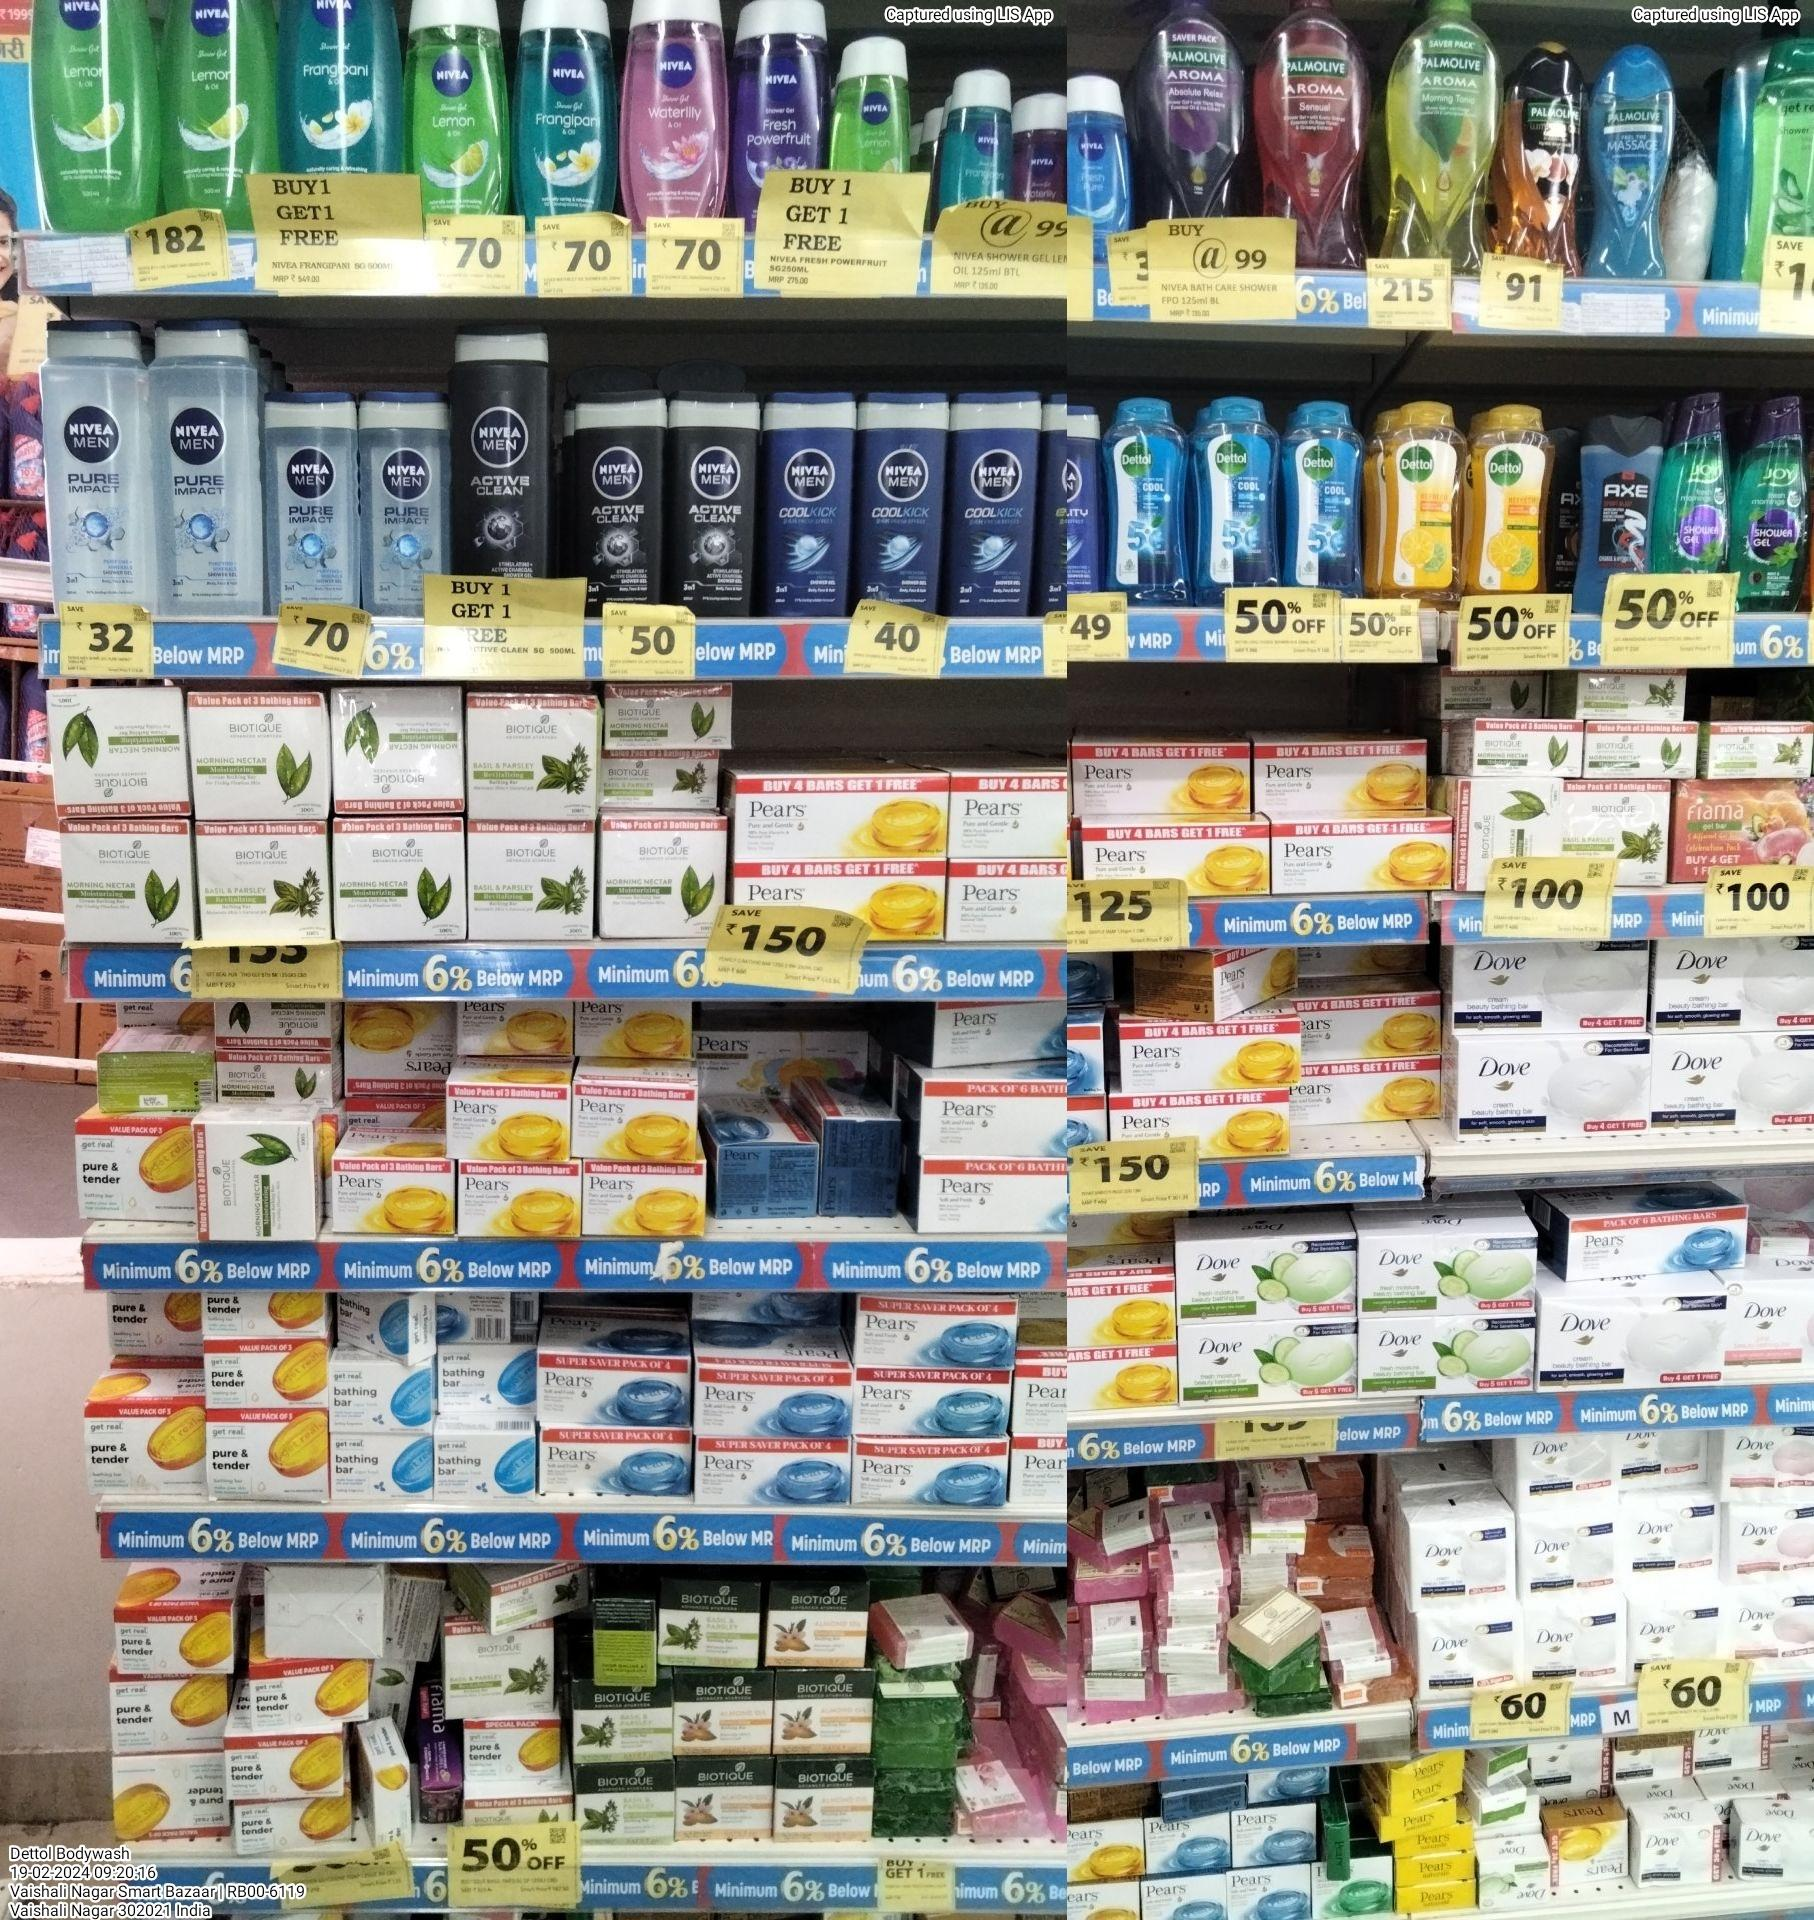Dettol_Bodywash_Cool: (1103, 397, 1190, 607), (1280, 397, 1366, 587), (1193, 397, 1272, 587)
Dettol_Bodywash_Refresh: (1383, 404, 1463, 604), (1470, 406, 1543, 588)
Joy_Shower_Gel_Mint_and_Eucalyptus_250ML: (1732, 396, 1800, 607), (1659, 390, 1725, 570)
Nivea_Shower_Gel_Frangipani_and_Oil_250ML: (520, 0, 614, 208), (290, 0, 402, 172)
Nivea_Shower_Gel_Fresh_Powerfruit_250ML: (738, 0, 818, 213)
Nivea_Shower_Gel_Lemon_and_Oil_250ML: (36, 0, 162, 232), (165, 0, 271, 230), (409, 0, 505, 211)
Nivea_Shower_Gel_Waterlily_and_Oil_250ML: (626, 0, 728, 228)
Palmolive_Aroma_Moments_Feel_The_Massage_Shower_Gel_250ML: (1599, 43, 1669, 281)
Palmolive_Luminous_Oils_With_White_Orchid_Shower_Gel_250ML: (1499, 44, 1592, 278)
